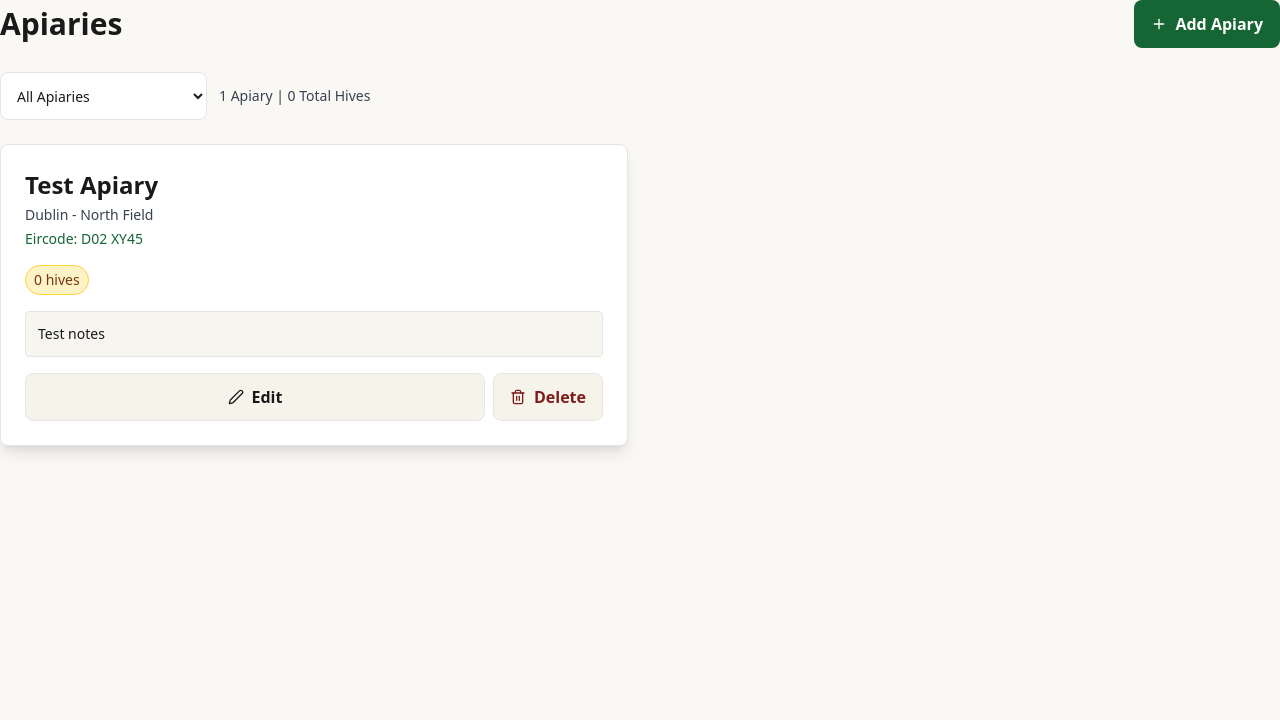
Test case: ApiariesPage › Edit Apiary Form › should populate form when editing existing apiary
expect the heading "Test Apiary" is shown: met, box [25,168,158,201]
Click the button "Edit" at (255, 397), box [25,373,485,421]
(page scrolled)
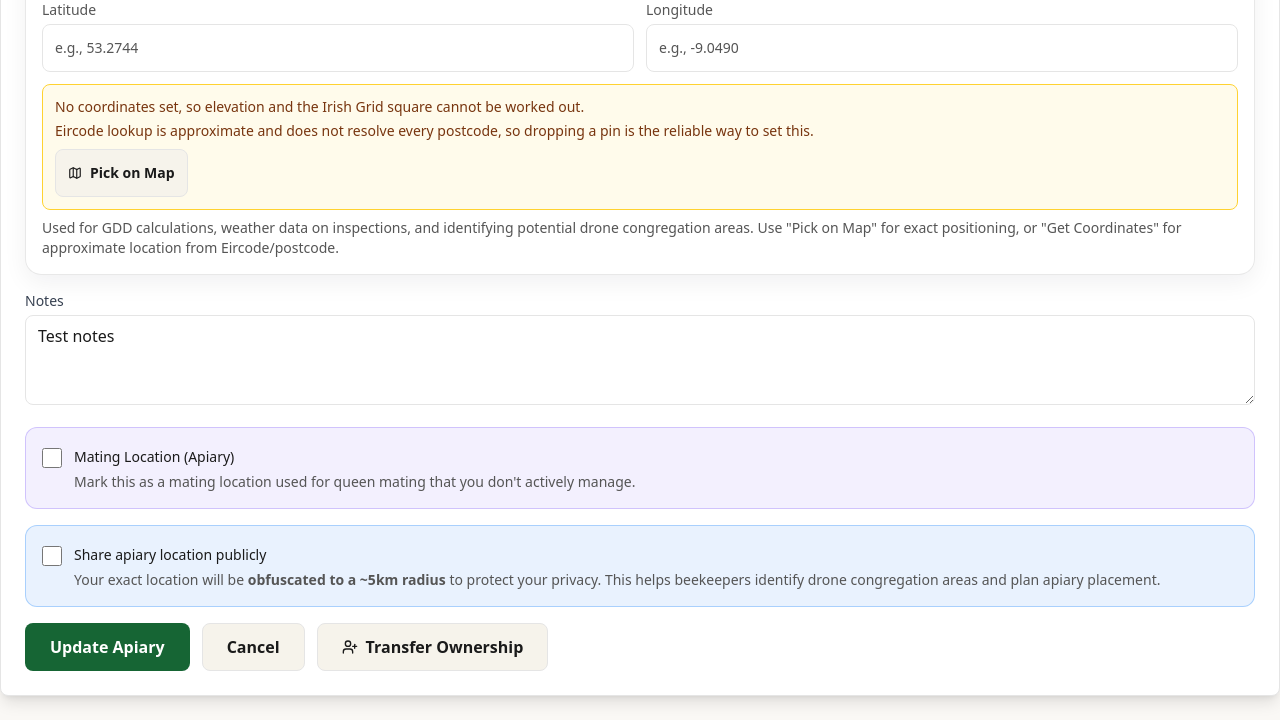
expect the text box showing "Test notes" is shown: met, box [25,315,1255,405]
